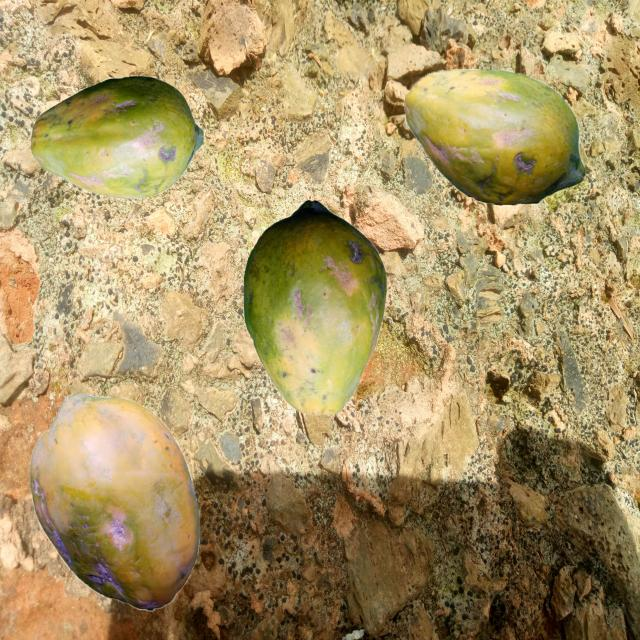Pepaya rippen: (232, 199, 394, 431), (31, 390, 201, 605), (401, 79, 590, 219), (28, 79, 219, 214)
